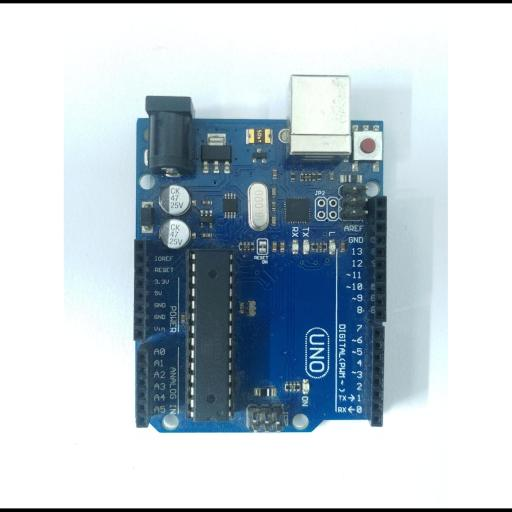Arduino Uno R3: (132, 75, 388, 434)
